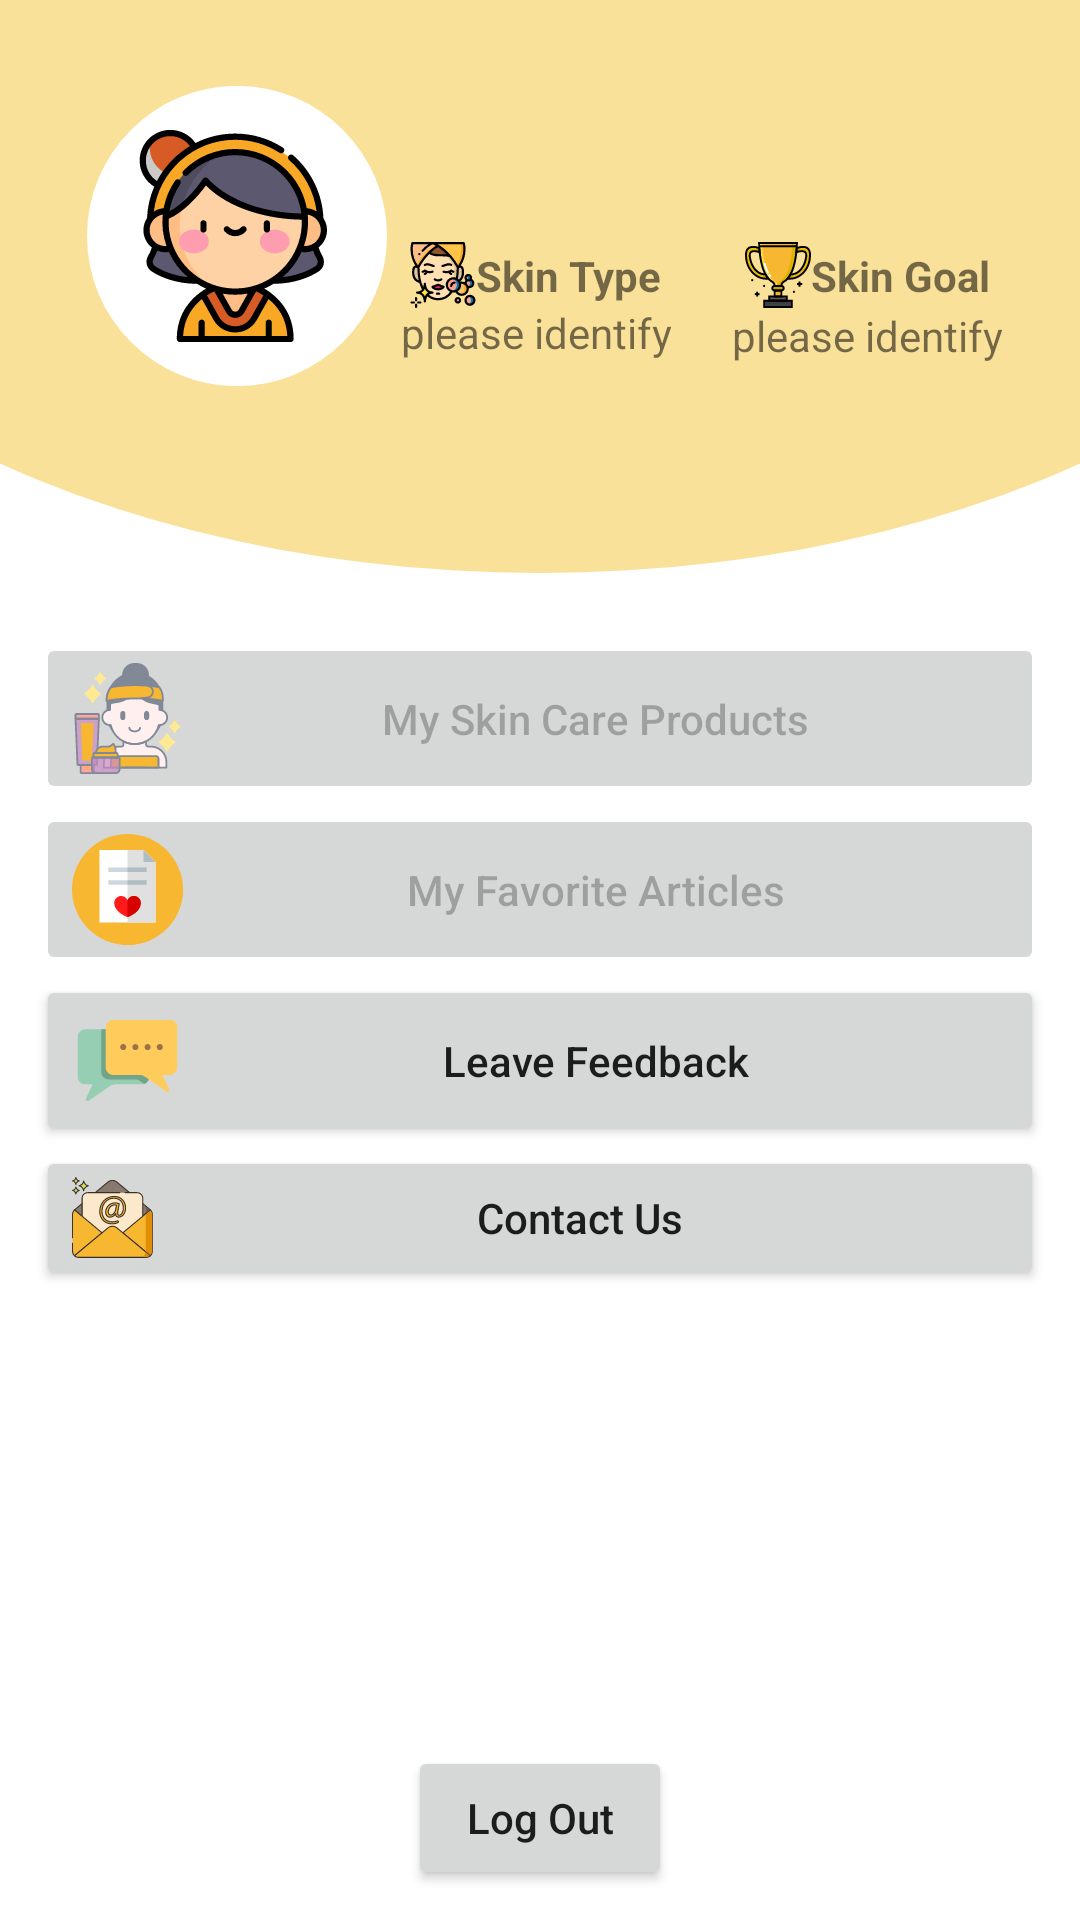

Named icons in this screenshot (1080*1920) and their centers, (x,y):
facial treatment: (443,275)
girl user: (237,236)
trophy: (778,275)
